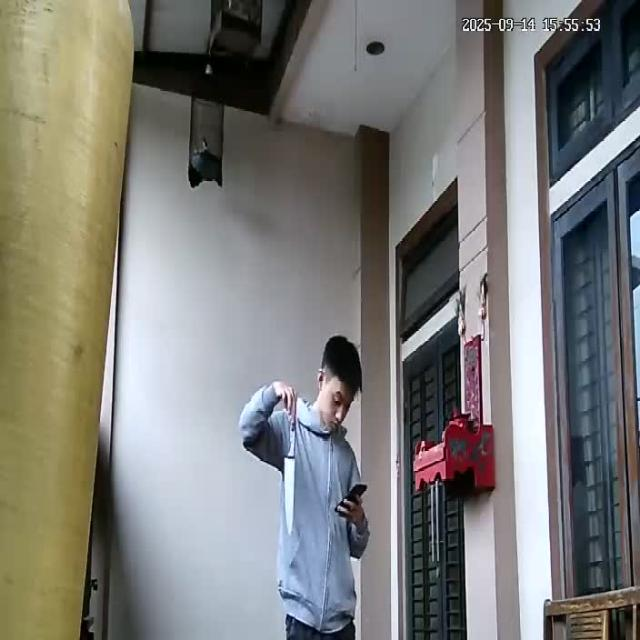senjata_tajam: (282, 429, 297, 536)
